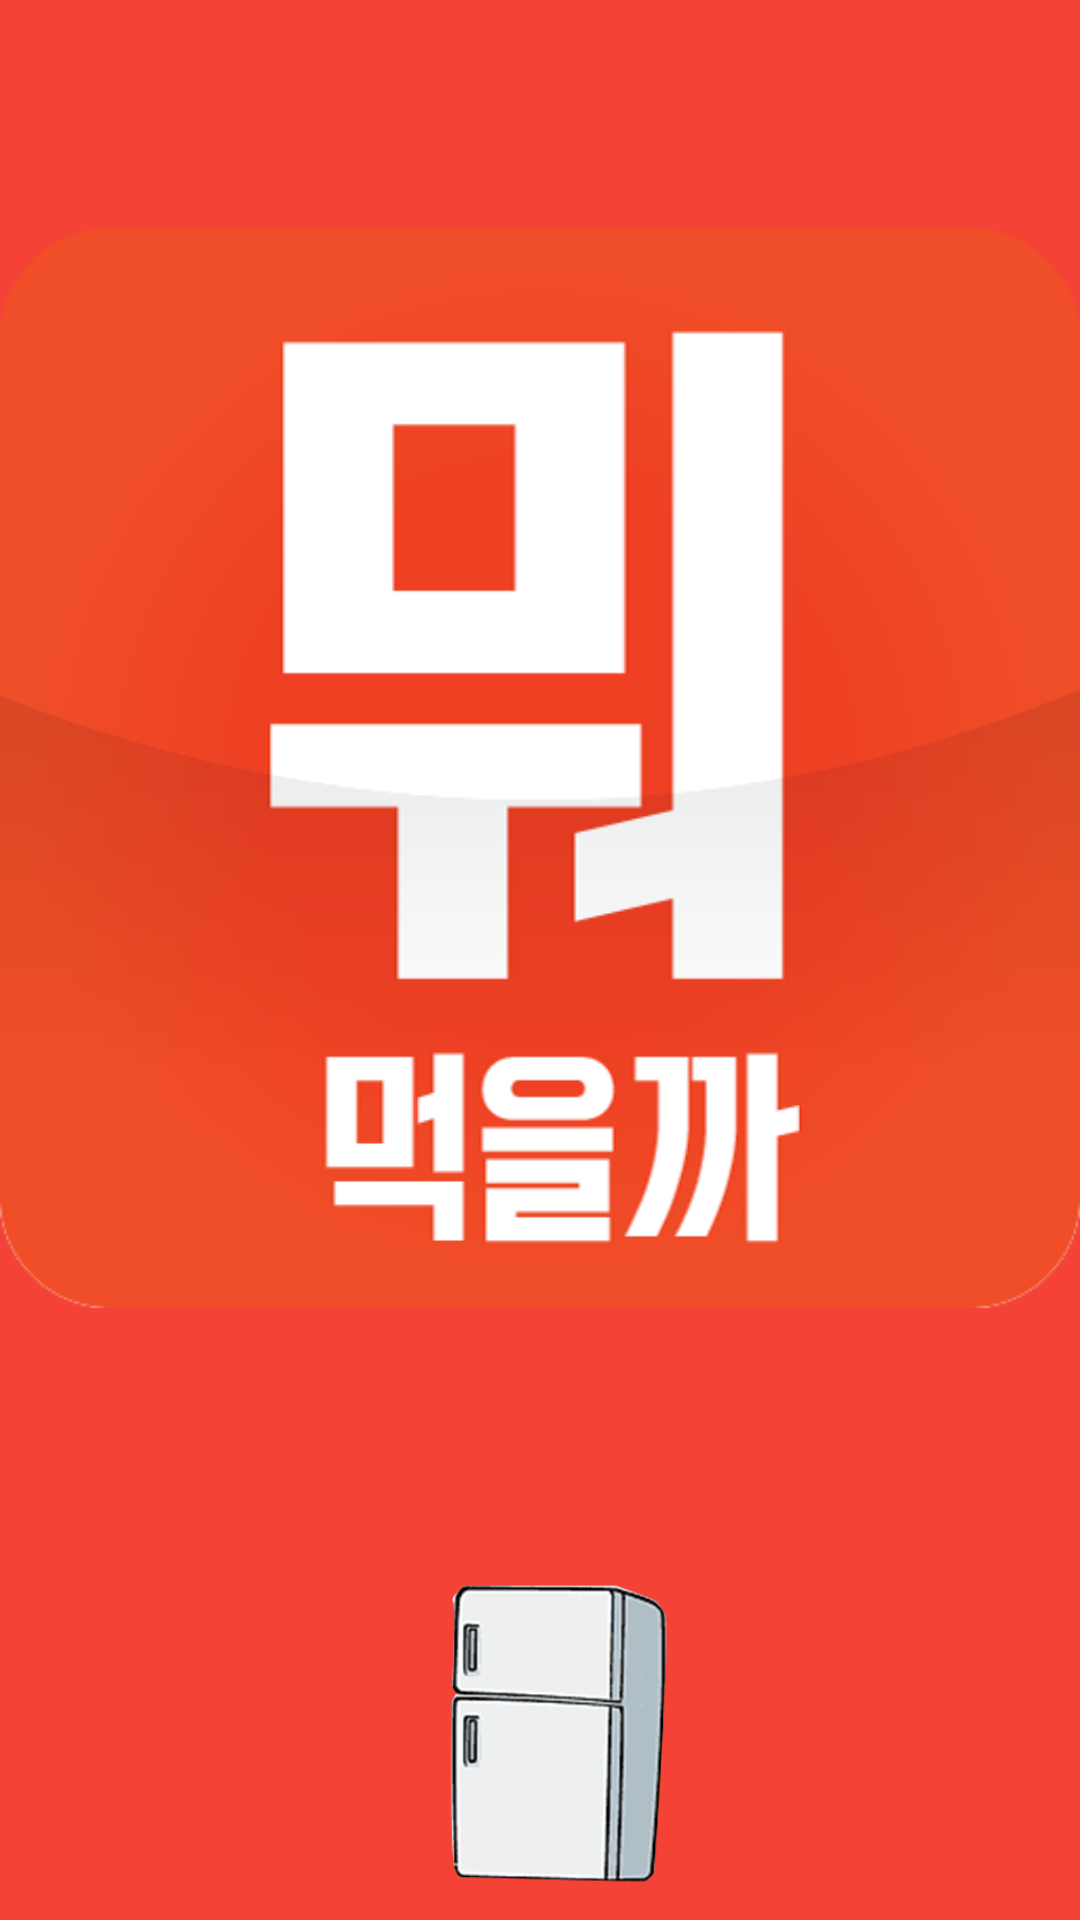

Screen size 1080×1920. Icon name, then its center in pixels as (x=x, y=y):
refirgerator: (x=559, y=1733)
